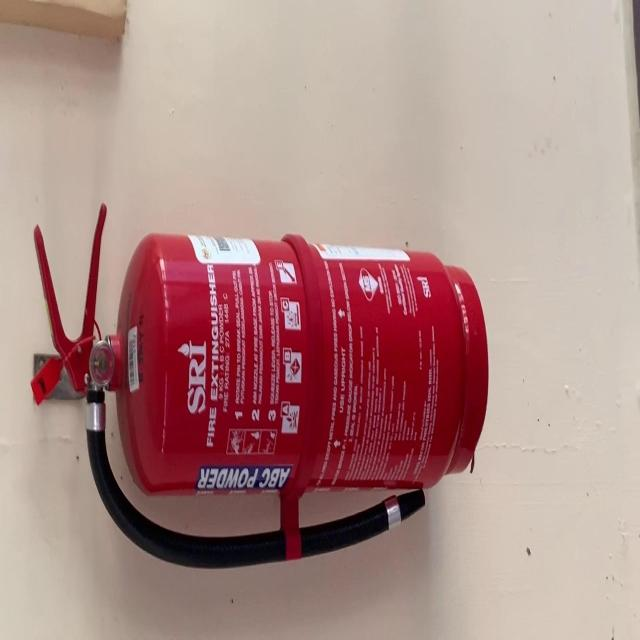fire_extinguisher: (24, 182, 494, 578)
